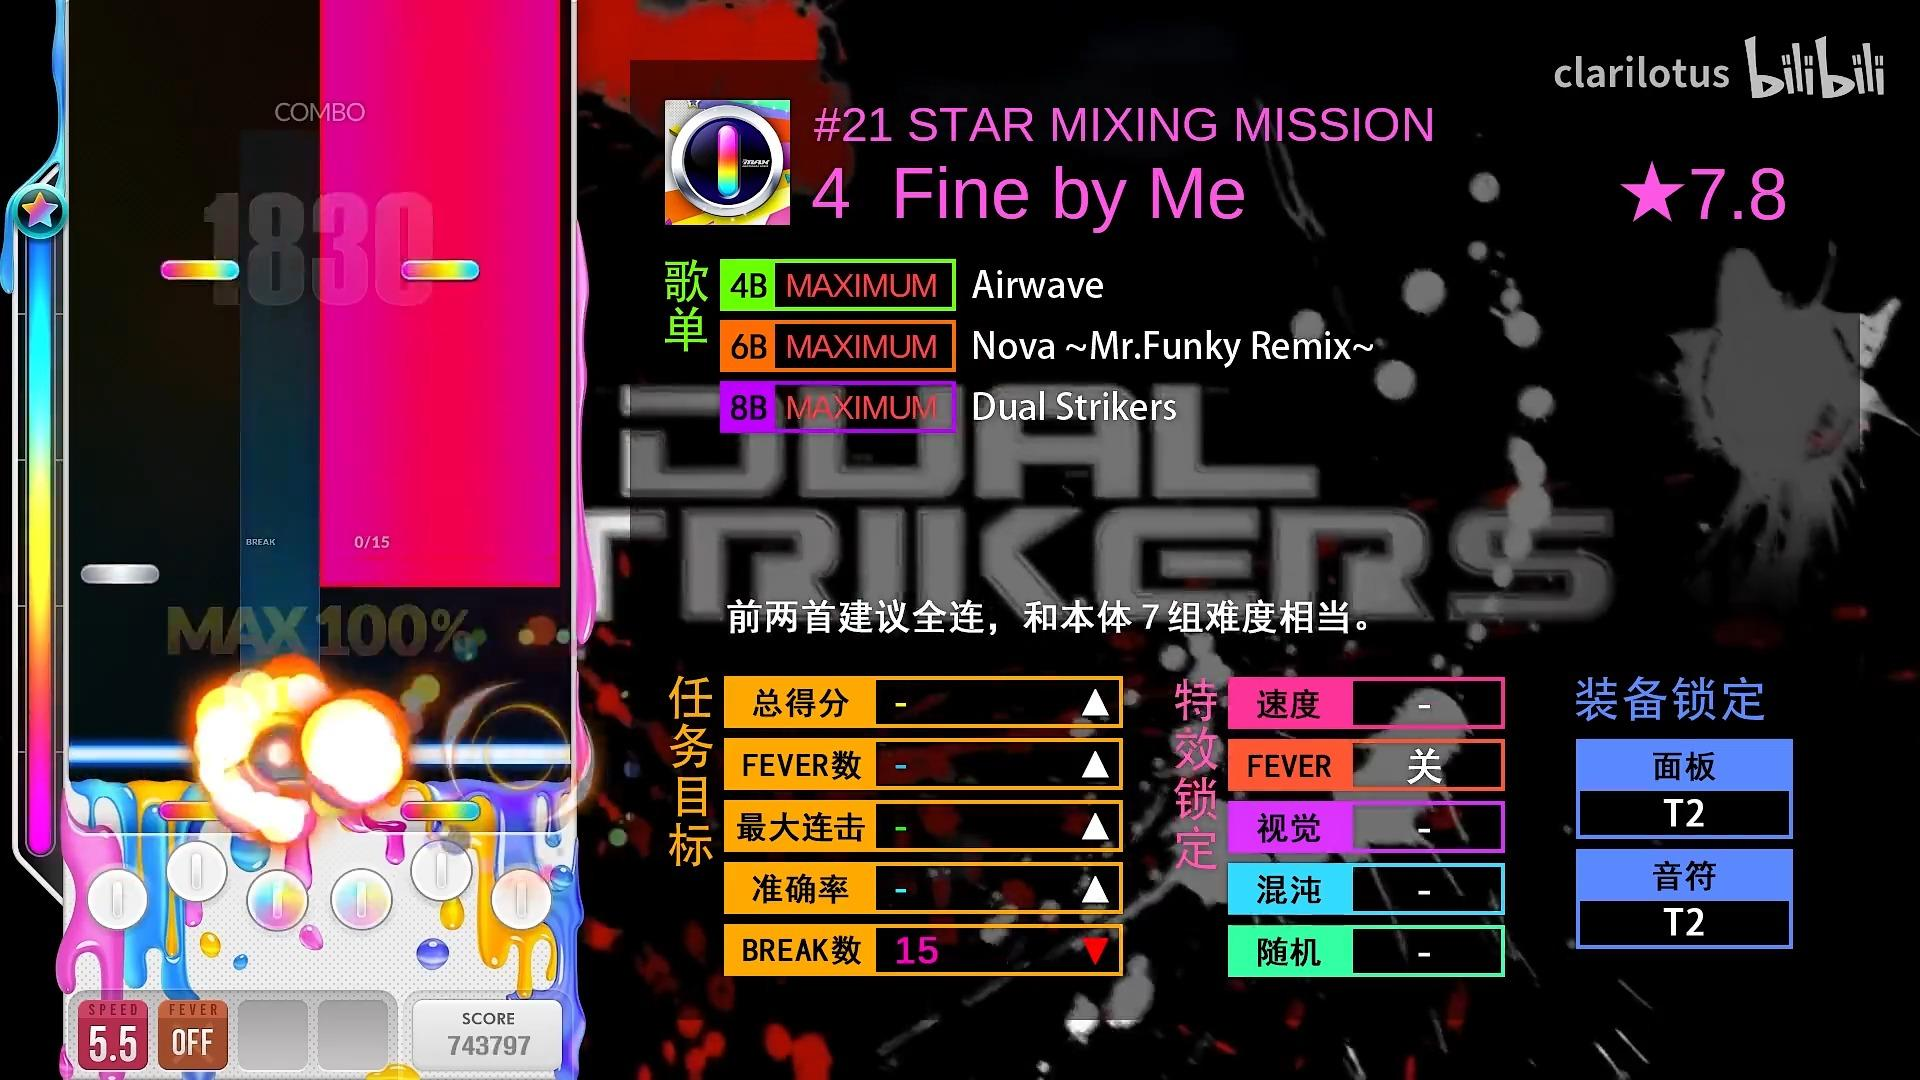note: (400, 258, 481, 282), (161, 260, 239, 281), (80, 564, 160, 584)
xstart: (319, 567, 560, 587)
